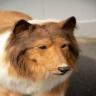dog: (0, 10, 82, 96)
